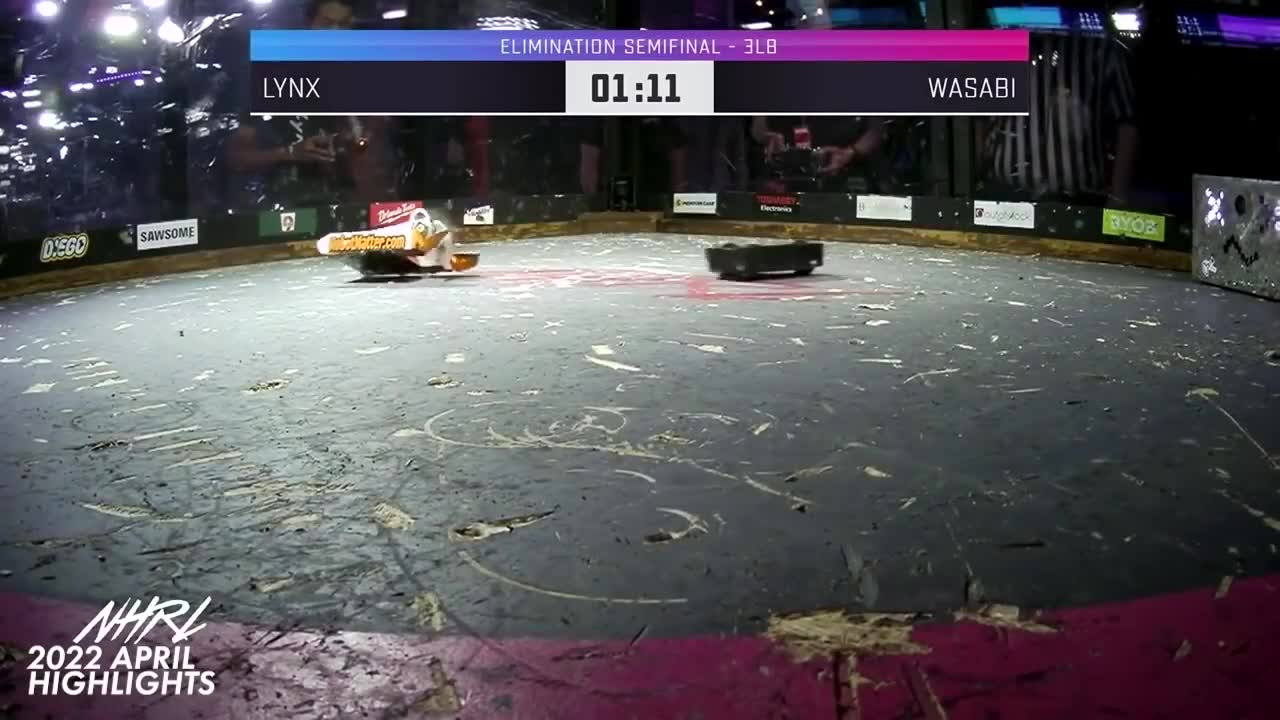combatbot: (315, 207, 483, 282), (709, 238, 825, 278)
housebot: (1189, 173, 1280, 304)
